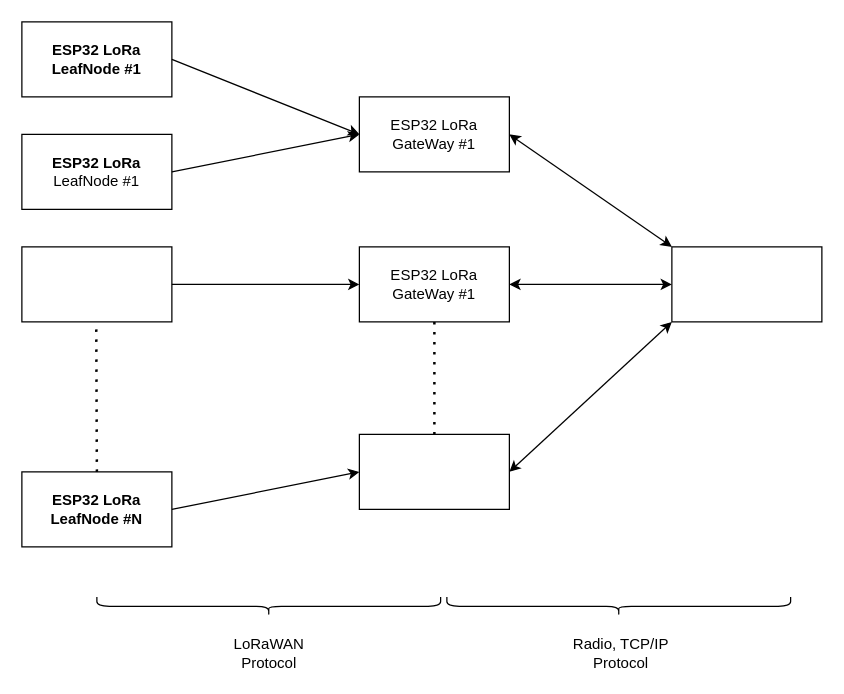
This 844x694 diagram has some shape labels left out. Here are the shapes that lost their labels. From the top down, the centre of each, then its label:
At pixel 96 284: "ESP32 LoRa LeafNode #3".
At pixel 746 284: "Central Server".
At pixel 433 471: "ESP32 LoRa GateWay #N".
